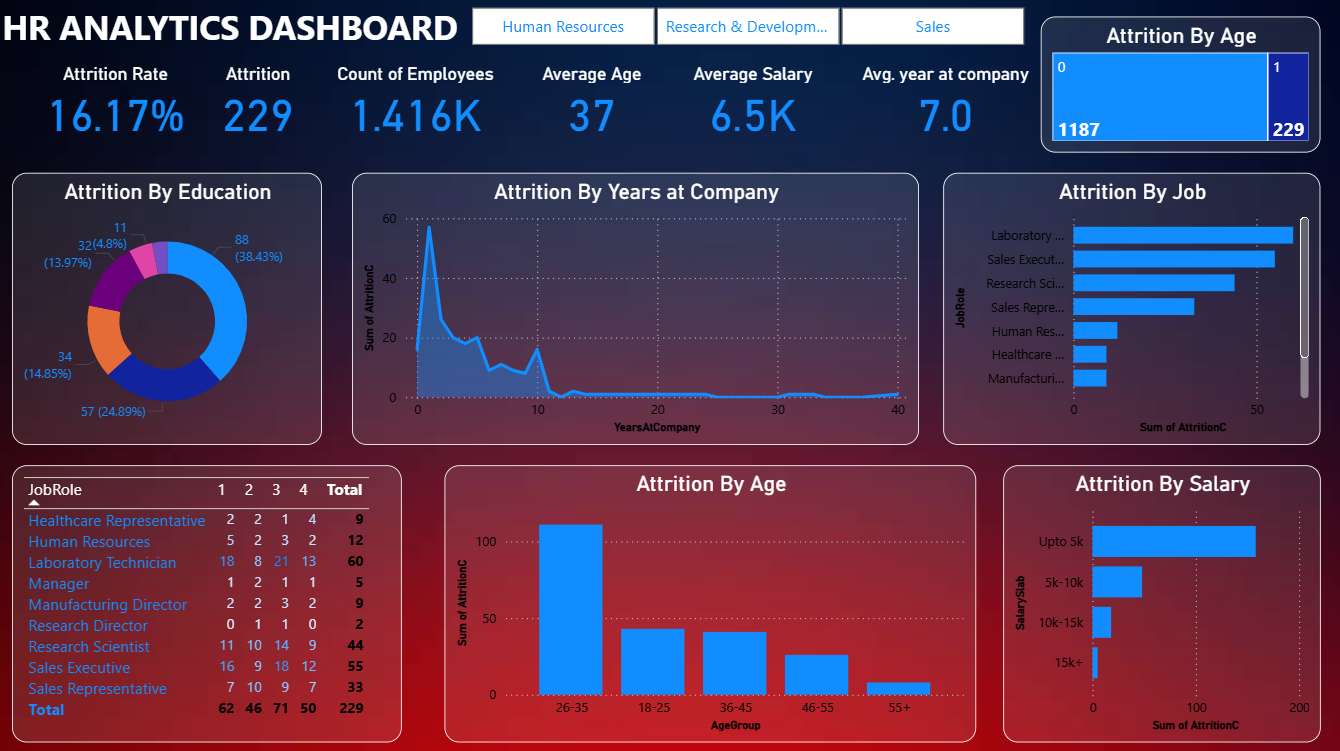

The dashboard page shown, as its layout file describes it:
{"tool":"powerbi","page":{"name":"Page 1","canvas":[1280,720],"ordinal":0},"visuals":[{"type":"card","title":"Count of Employees","fields":{"Values":["CountNonNull(HR_Analytics.EmpID)"]},"box":[285.8,60.2,225.7,72],"z":0},{"type":"card","title":"Attrition","fields":{"Values":["Sum(HR_Analytics.AttritionC)"]},"box":[135.7,60.2,225.7,72],"z":1000},{"type":"card","title":"Attrition Rate","fields":{"Values":["HR_Analytics.AttritionRate"]},"box":[0,60.2,225.7,72],"z":2000},{"type":"card","title":"Average Age","fields":{"Values":["Avg(HR_Analytics.Age)"]},"box":[453.9,60.2,225.7,72],"z":3000},{"type":"card","title":"Average Salary","fields":{"Values":["Avg(HR_Analytics.MonthlyIncome)"]},"box":[607.6,60.2,225.7,72],"z":4000},{"type":"card","title":"Avg. year at company","fields":{"Values":["Avg(HR_Analytics.YearsAtCompany)"]},"box":[790.1,60.2,225.7,72],"z":5000},{"type":"donutChart","title":"Attrition By Education","fields":{"Y":["Sum(HR_Analytics.AttritionC)"],"Category":["HR_Analytics.EducationField"]},"box":[14.4,165.7,295.4,259.4],"z":6000},{"type":"clusteredColumnChart","title":"Attrition By Age","fields":{"Category":["HR_Analytics.AgeGroup"],"Y":["Sum(HR_Analytics.AttritionC)"]},"box":[426.3,444.3,506.7,264.2],"z":7000},{"type":"pivotTable","fields":{"Rows":["HR_Analytics.JobRole"],"Columns":["HR_Analytics.JobSatisfaction"],"Values":["Sum(HR_Analytics.AttritionC)"]},"box":[14.4,444.3,371,264.2],"z":8000},{"type":"clusteredBarChart","title":"Attrition By Job","fields":{"Category":["HR_Analytics.JobRole"],"Y":["Sum(HR_Analytics.AttritionC)"]},"box":[901.8,165.7,359,259.4],"z":9000},{"type":"clusteredBarChart","title":"Attrition By Salary","fields":{"Y":["Sum(HR_Analytics.AttritionC)"],"Category":["HR_Analytics.SalarySlab"]},"box":[958.2,444.3,302.6,264.2],"z":10000},{"type":"areaChart","title":"Attrition By Years at Company","fields":{"Category":["HR_Analytics.YearsAtCompany"],"Y":["Sum(HR_Analytics.AttritionC)"]},"box":[338.6,165.7,540.3,259.4],"z":11000},{"type":"treemap","title":"Attrition By Age","fields":{"Values":["CountNonNull(HR_Analytics.Gender)"],"Group":["HR_Analytics.AttritionC"]},"box":[994.2,16.8,266.6,129.7],"z":12000},{"type":"textbox","box":[0,0,453.9,60],"z":13000},{"type":"slicer","fields":{"Values":["HR_Analytics.Department"]},"box":[426.3,1.2,576.4,49.2],"z":14000}]}

Visuals, with their boxes in screenshot pixels (x1, y1, x2, y2), scaled from the page's 1280x720 canvas onto the 1340x751 screenshot:
"Count of Employees" card: x1=299 y1=63 x2=535 y2=138
"Attrition" card: x1=142 y1=63 x2=378 y2=138
"Attrition Rate" card: x1=0 y1=63 x2=236 y2=138
"Average Age" card: x1=475 y1=63 x2=711 y2=138
"Average Salary" card: x1=636 y1=63 x2=872 y2=138
"Avg. year at company" card: x1=827 y1=63 x2=1063 y2=138
"Attrition By Education" donutChart: x1=15 y1=173 x2=324 y2=443
"Attrition By Age" clusteredColumnChart: x1=446 y1=463 x2=977 y2=739
pivotTable - HR_Analytics.JobRole x HR_Analytics.JobSatisfaction: x1=15 y1=463 x2=403 y2=739
"Attrition By Job" clusteredBarChart: x1=944 y1=173 x2=1320 y2=443
"Attrition By Salary" clusteredBarChart: x1=1003 y1=463 x2=1320 y2=739
"Attrition By Years at Company" areaChart: x1=354 y1=173 x2=920 y2=443
"Attrition By Age" treemap: x1=1041 y1=18 x2=1320 y2=153
textbox: x1=0 y1=0 x2=475 y2=63
slicer - HR_Analytics.Department: x1=446 y1=1 x2=1050 y2=53
